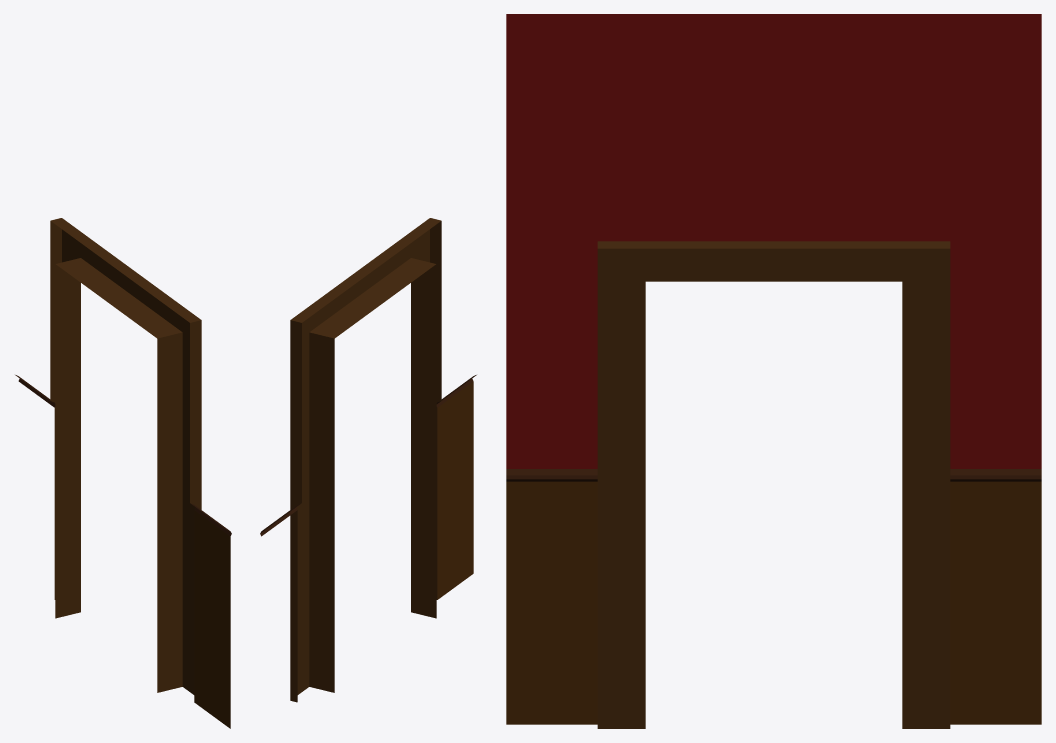
Rendered from WallDoorFrame.fbx.
3 views of the same model, side by side, from view 1: azimuth 30°, elevation 25°; view 2: azimuth 150°, elevation 25°; view 3: azimuth 270°, elevation 25° (orthographic). The views are drawn at different scales.
Visible parts, largest first — view 1: Wall Door Frame; view 2: Wall Door Frame; view 3: Wall Door Frame.
Part boxes in pixels (box(x1,y1,x2,y2)): Wall Door Frame: box(15, 218, 231, 728); Wall Door Frame: box(260, 218, 476, 702); Wall Door Frame: box(506, 14, 1041, 728).
Bounding box in the file's own units: 92.84 × 1959 × 1343.
